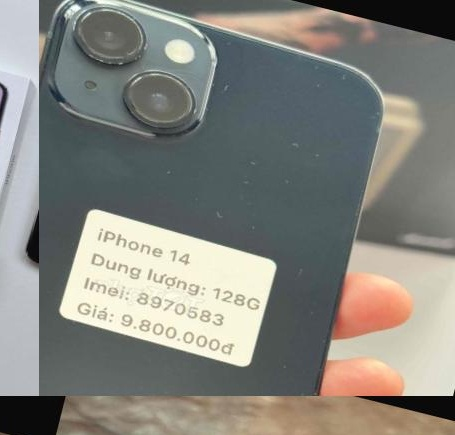scratch: (108, 61, 210, 170), (53, 0, 168, 77), (197, 207, 267, 237), (361, 105, 402, 152), (230, 150, 266, 199), (284, 135, 330, 166), (282, 259, 314, 298), (332, 69, 357, 95), (219, 76, 239, 105), (279, 171, 302, 192), (311, 84, 332, 106)
